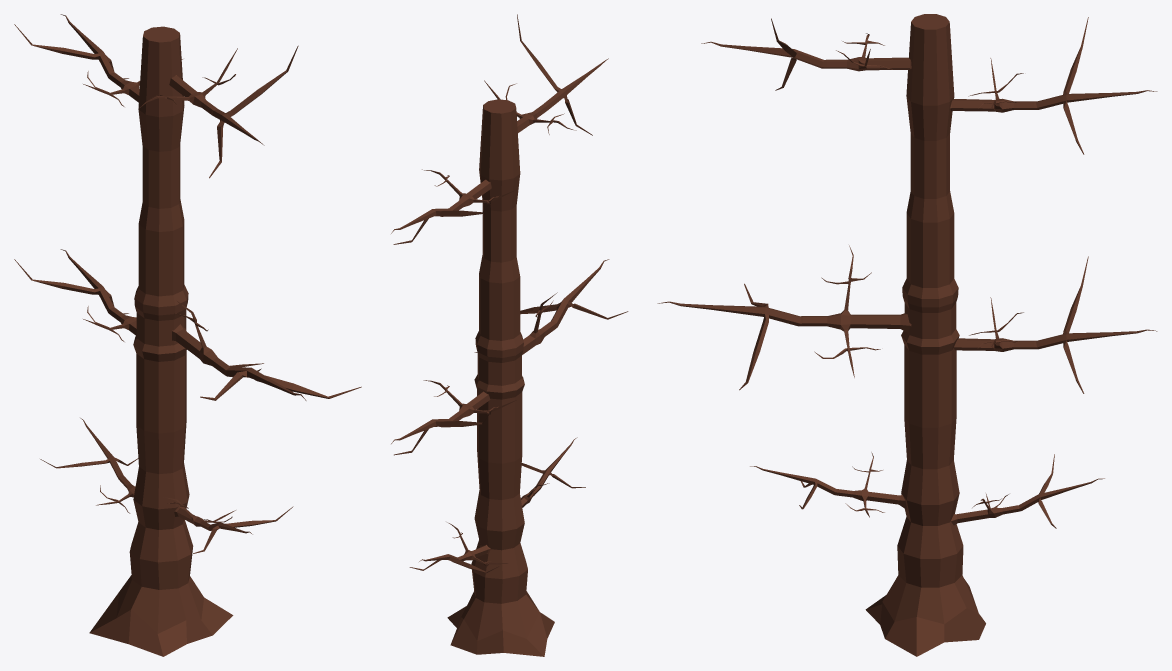
Rendered from Tree.fbx.
3 renders of one model, left to right at view 1: azimuth 30°, elevation 25°; view 2: azimuth 150°, elevation 25°; view 3: azimuth 270°, elevation 25°, orthographic. The views are drawn at different scales.
Parts seen in each view (by area): view 1: Cylinder, Cylinder.003, Cylinder.006, Cylinder.005, Cylinder.004, Cylinder.001, Cylinder.002; view 2: Cylinder, Cylinder.003, Cylinder.006, Cylinder.005, Cylinder.004, Cylinder.002, Cylinder.001; view 3: Cylinder, Cylinder.003, Cylinder.005, Cylinder.004, Cylinder.006, Cylinder.001, Cylinder.002.
Boxes of the visible parts, x1,y1,x2,y2 form: Cylinder: (89,26,233,656); Cylinder.003: (172,301,361,400); Cylinder.006: (140,45,298,178); Cylinder.005: (14,14,182,106); Cylinder.004: (14,249,136,341); Cylinder.001: (163,497,293,553); Cylinder.002: (40,418,138,513); Cylinder: (447,99,554,656); Cylinder.003: (474,259,628,354); Cylinder.006: (484,14,608,135); Cylinder.005: (391,169,516,244); Cylinder.004: (391,380,516,455); Cylinder.002: (409,522,508,573); Cylinder.001: (520,437,585,507); Cylinder: (865,14,985,656); Cylinder.003: (657,245,911,390); Cylinder.005: (950,17,1157,154); Cylinder.004: (953,256,1157,393); Cylinder.006: (701,18,911,90); Cylinder.001: (750,452,906,517); Cylinder.002: (951,454,1104,528).
Bounding box in the file's own units: 1222 × 4132 × 2949.
